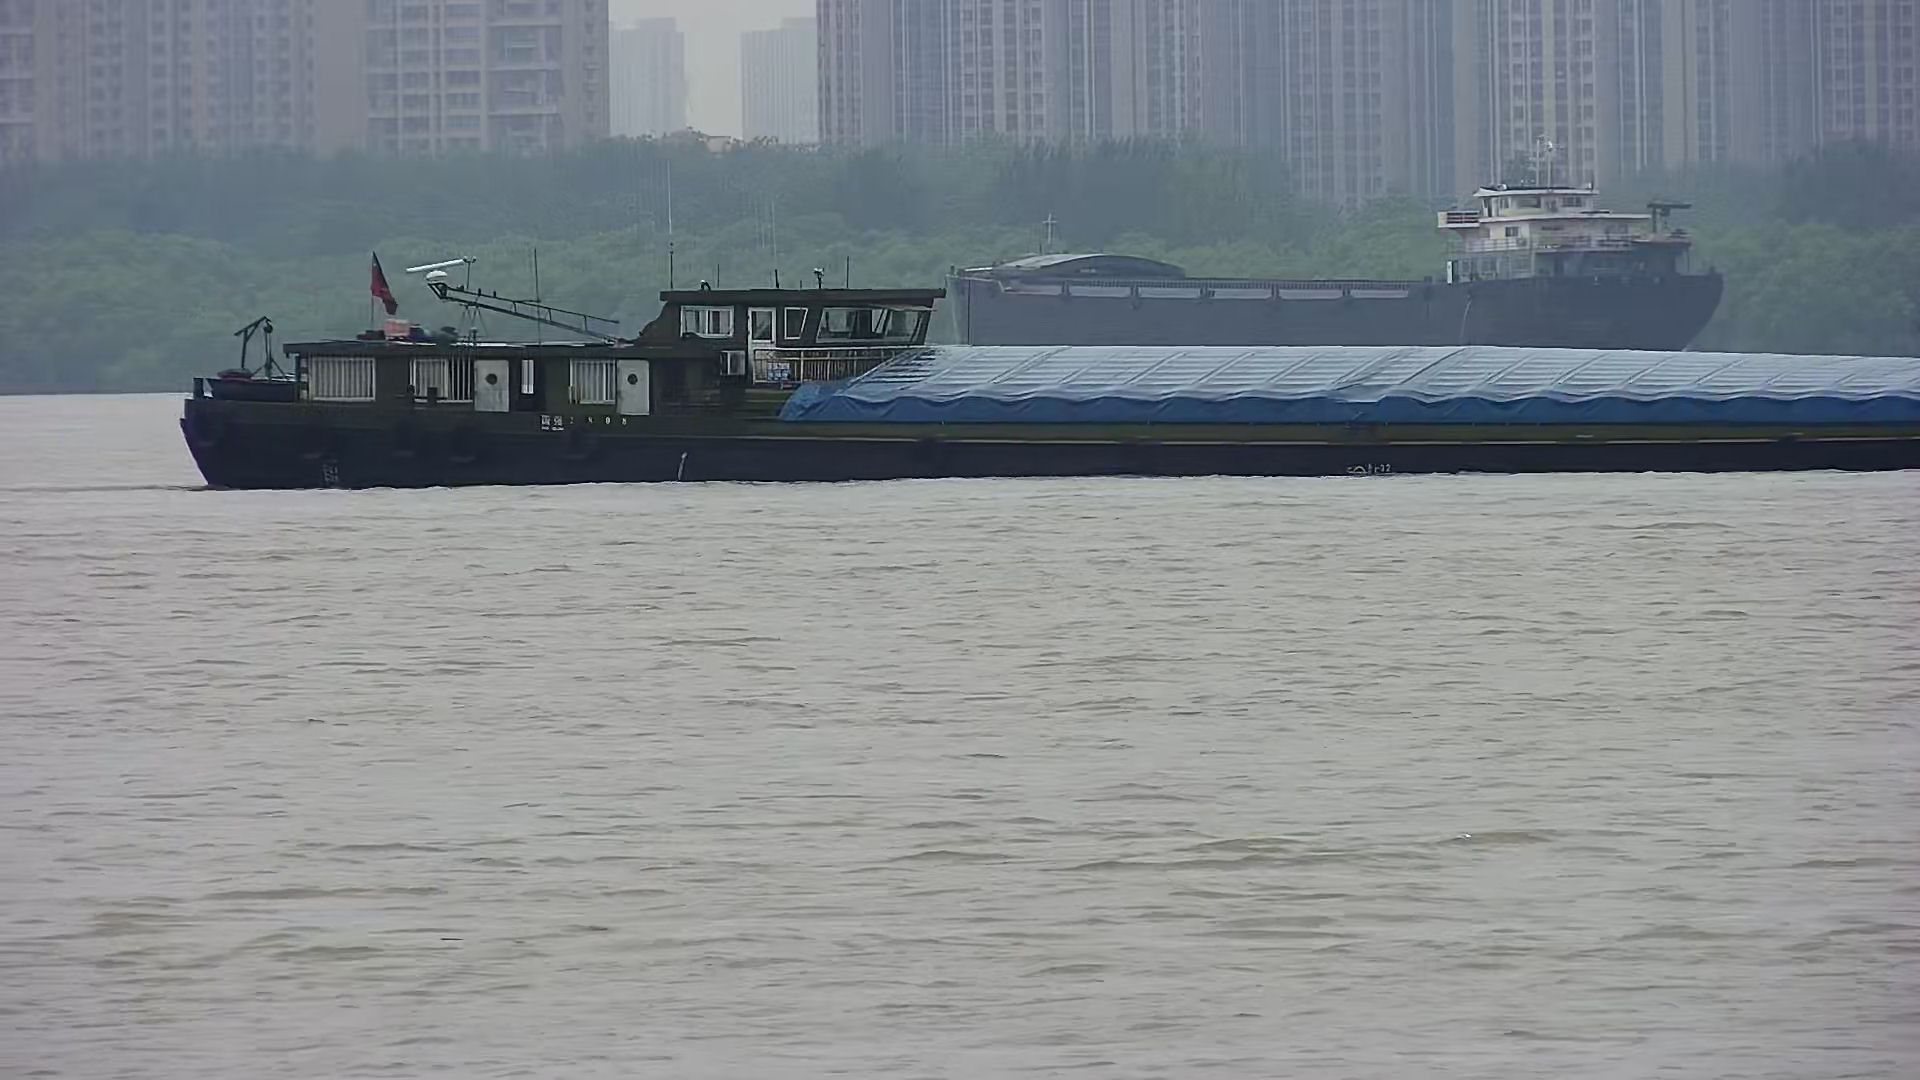ship: (179, 247, 1919, 493), (945, 160, 1720, 397)
